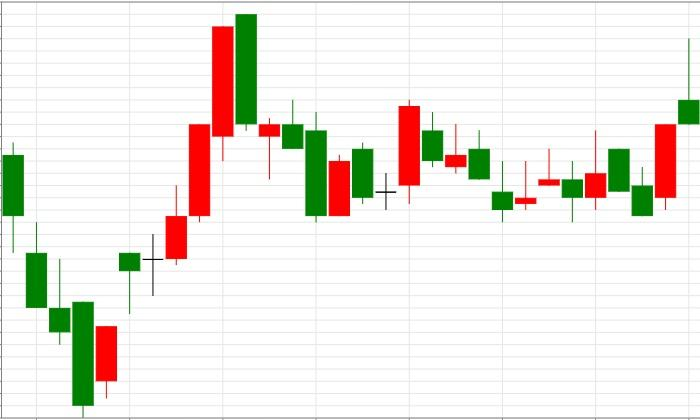morning_star_rise: (235, 13, 420, 222)
